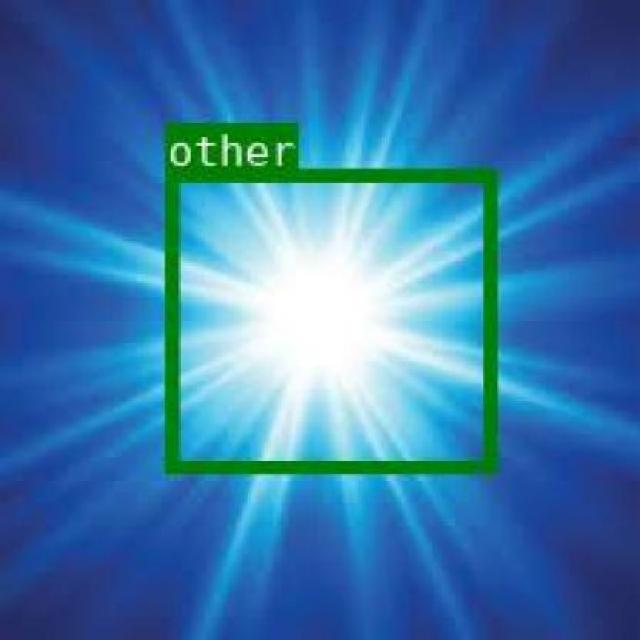other: (162, 168, 493, 470)
